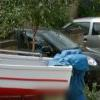Boat: (2, 45, 82, 100)
